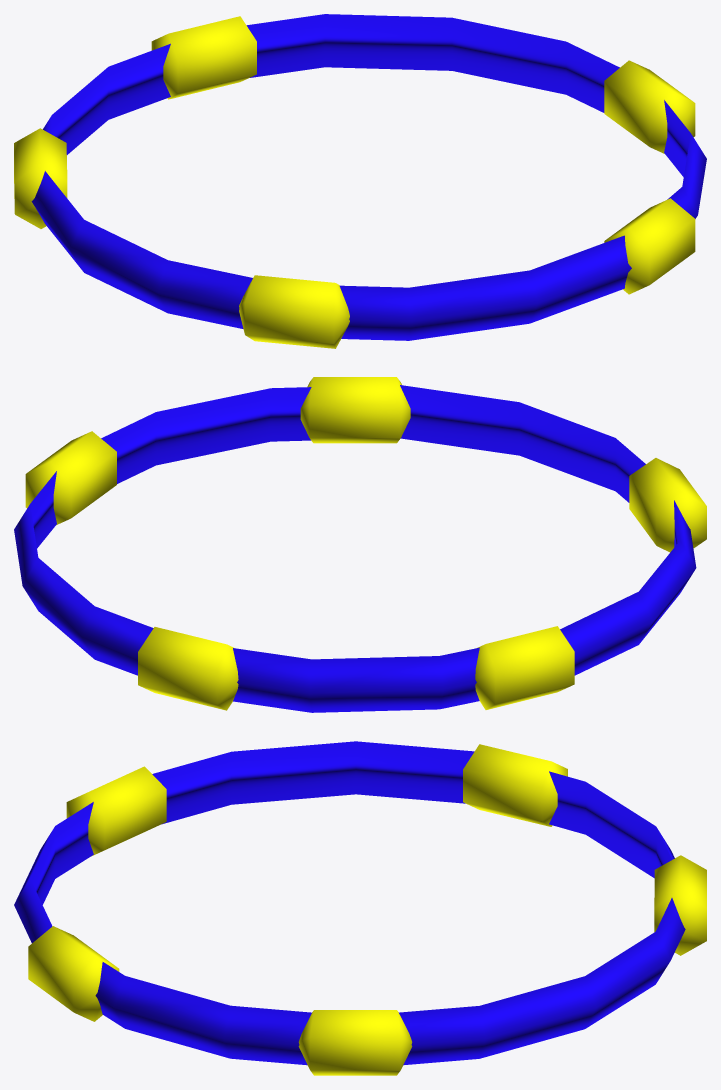
File: converter_ring.sapphire.obj
3 views of the same model, one above another, from view 1: azimuth 30°, elevation 25°; view 2: azimuth 150°, elevation 25°; view 3: azimuth 270°, elevation 25° (orthographic).
Parts seen in each view (by area): view 1: Ring_Cylinder; view 2: Ring_Cylinder; view 3: Ring_Cylinder.
Part boxes in pixels (x1,y1,x2,y2): Ring_Cylinder: (14, 14, 706, 348); Ring_Cylinder: (14, 377, 706, 712); Ring_Cylinder: (14, 741, 706, 1075).
Bounding box in the file's own units: 0.98 × 0.1027 × 0.9802.
